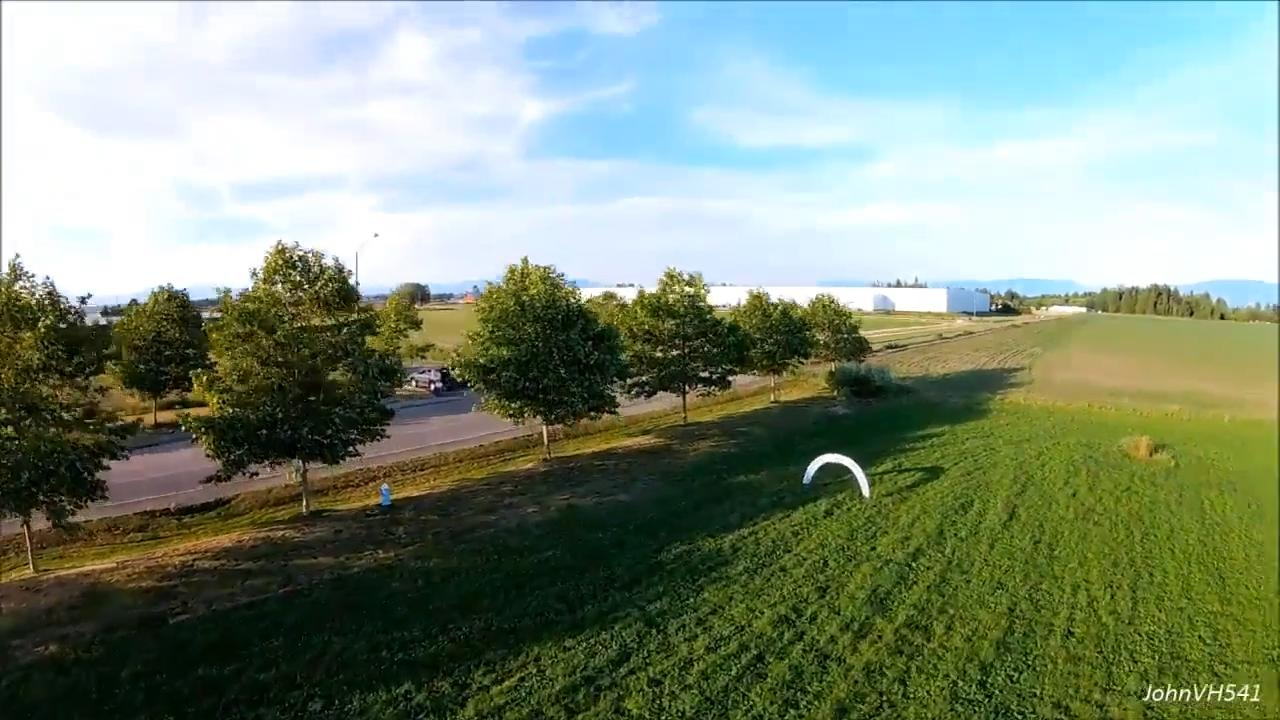gate: (801, 452, 871, 499)
